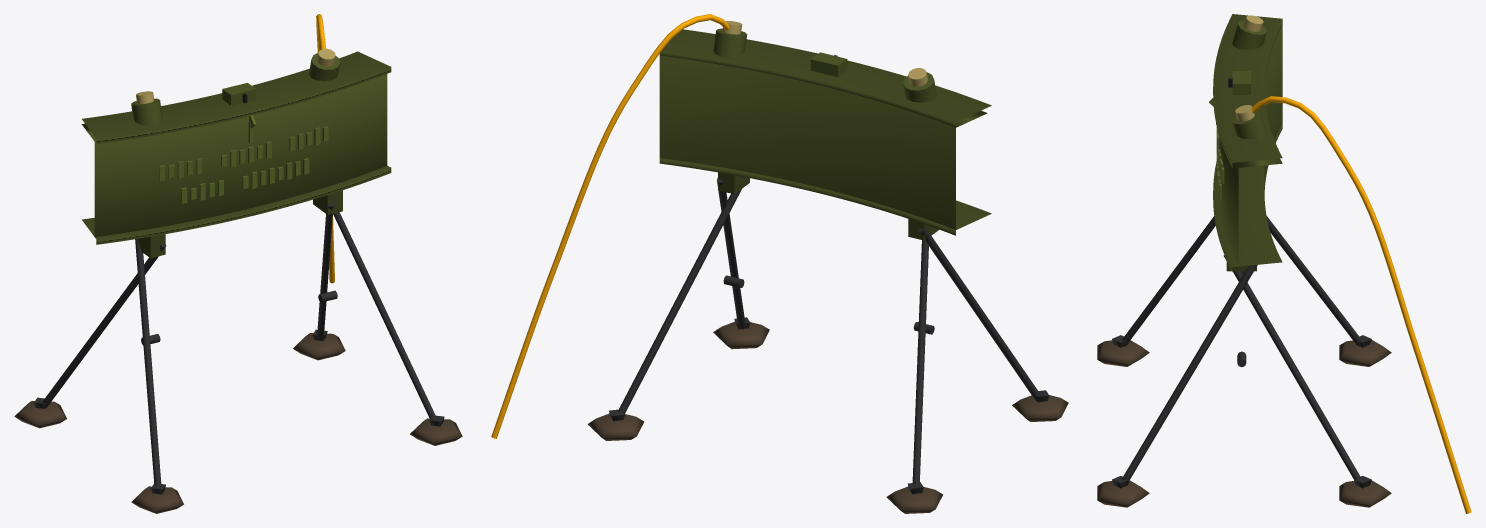
The model's file is claymore-mine.glb.
3 views of the same model, side by side, from view 1: azimuth 30°, elevation 25°; view 2: azimuth 150°, elevation 25°; view 3: azimuth 270°, elevation 25° (orthographic). The views are drawn at different scales.
Parts seen in each view (by area): view 1: Mesh_Body, Mesh_TopRim, Mesh_BotRim, Mesh_LegR1, Mesh_LegL1, Mesh_LegR2, Mesh_DirtL1, Mesh_DirtR1, Mesh_DirtR2, Mesh_LegL2, Mesh_DirtL2, Mesh_WellR (+4 smaller); view 2: Mesh_Body, Mesh_TopRim, Mesh_DetonatorWire, Mesh_BotRim, Mesh_LegL2, Mesh_LegR2, Mesh_LegR1, Mesh_DirtL1, Mesh_DirtR2, Mesh_DirtL2, Mesh_DirtR1, Mesh_LegL1 (+3 smaller); view 3: Mesh_TopRim, Mesh_BotRim, Mesh_Body, Mesh_DetonatorWire, Mesh_LegL1, Mesh_LegL2, Mesh_LegR2, Mesh_LegR1, Mesh_DirtL1, Mesh_DirtL2, Mesh_DirtR1, Mesh_DirtR2 (+3 smaller).
Part boxes in pixels (x1,y1,x2,y2): Mesh_Body: [81, 74, 387, 236]; Mesh_TopRim: [82, 51, 391, 144]; Mesh_BotRim: [82, 166, 391, 244]; Mesh_LegR1: [135, 239, 161, 485]; Mesh_LegL1: [333, 212, 436, 418]; Mesh_LegR2: [42, 244, 166, 407]; Mesh_DirtL1: [410, 418, 462, 445]; Mesh_DirtR1: [131, 486, 183, 513]; Mesh_DirtR2: [14, 401, 66, 428]; Mesh_LegL2: [317, 202, 333, 340]; Mesh_DirtL2: [293, 333, 345, 360]; Mesh_WellR: [131, 98, 162, 125]; Mesh_Body: [659, 55, 987, 229]; Mesh_TopRim: [659, 29, 991, 127]; Mesh_DetonatorWire: [491, 14, 729, 438]; Mesh_BotRim: [659, 158, 991, 235]; Mesh_LegL2: [618, 189, 741, 413]; Mesh_LegR2: [912, 240, 928, 484]; Mesh_LegR1: [918, 228, 1040, 401]; Mesh_DirtL1: [713, 321, 769, 349]; Mesh_DirtR2: [886, 486, 942, 513]; Mesh_DirtL2: [587, 413, 643, 440]; Mesh_DirtR1: [1012, 395, 1068, 421]; Mesh_LegL1: [717, 178, 745, 329]; Mesh_TopRim: [1213, 14, 1282, 167]; Mesh_BotRim: [1213, 123, 1282, 271]; Mesh_Body: [1219, 25, 1282, 266]; Mesh_DetonatorWire: [1252, 96, 1471, 513]; Mesh_LegL1: [1122, 264, 1257, 480]; Mesh_LegL2: [1223, 255, 1361, 479]; Mesh_LegR2: [1266, 216, 1361, 346]; Mesh_LegR1: [1122, 216, 1215, 346]; Mesh_DirtL1: [1097, 480, 1149, 507]; Mesh_DirtL2: [1339, 480, 1391, 507]; Mesh_DirtR1: [1097, 340, 1149, 366]; Mesh_DirtR2: [1339, 340, 1391, 366].
Bounding box in the file's own units: 0.2902 × 0.2847 × 0.2474.
